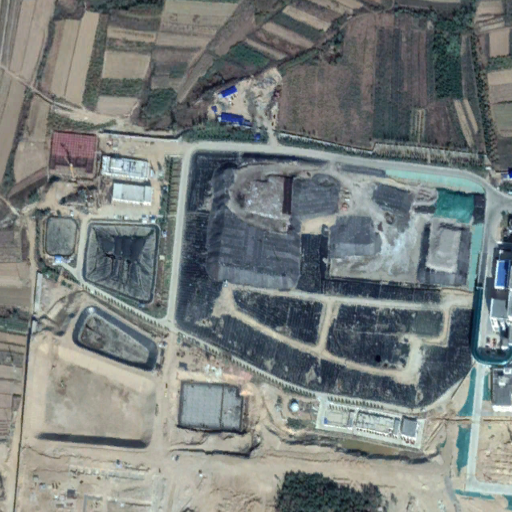lf: (171, 147, 488, 416)
